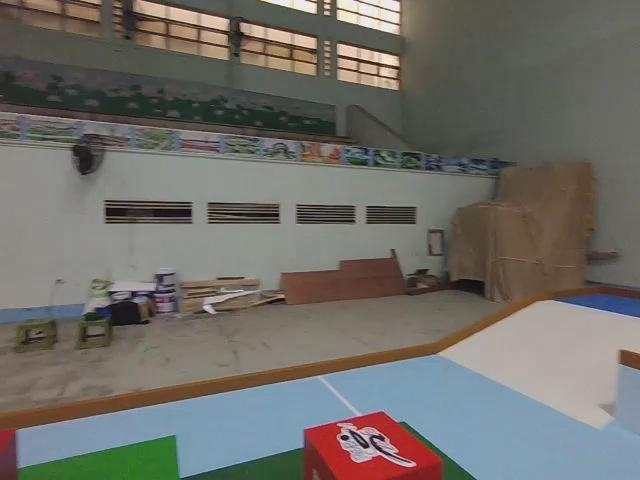R1: (300, 409, 445, 480)
